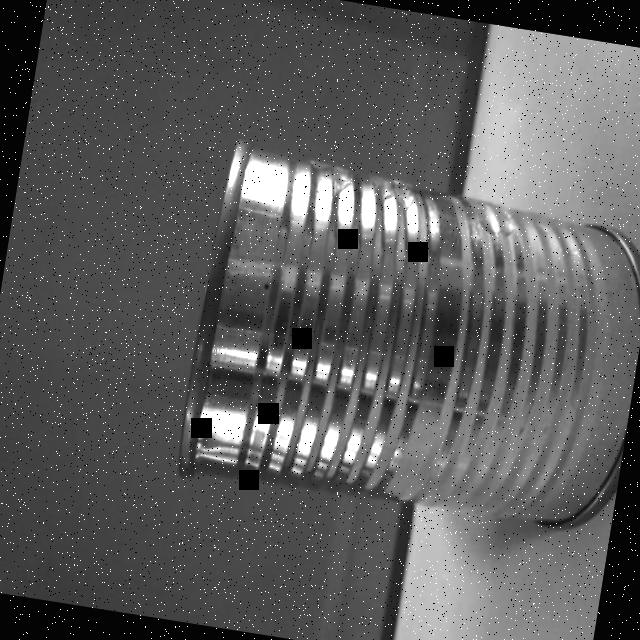can: (170, 130, 640, 547)
